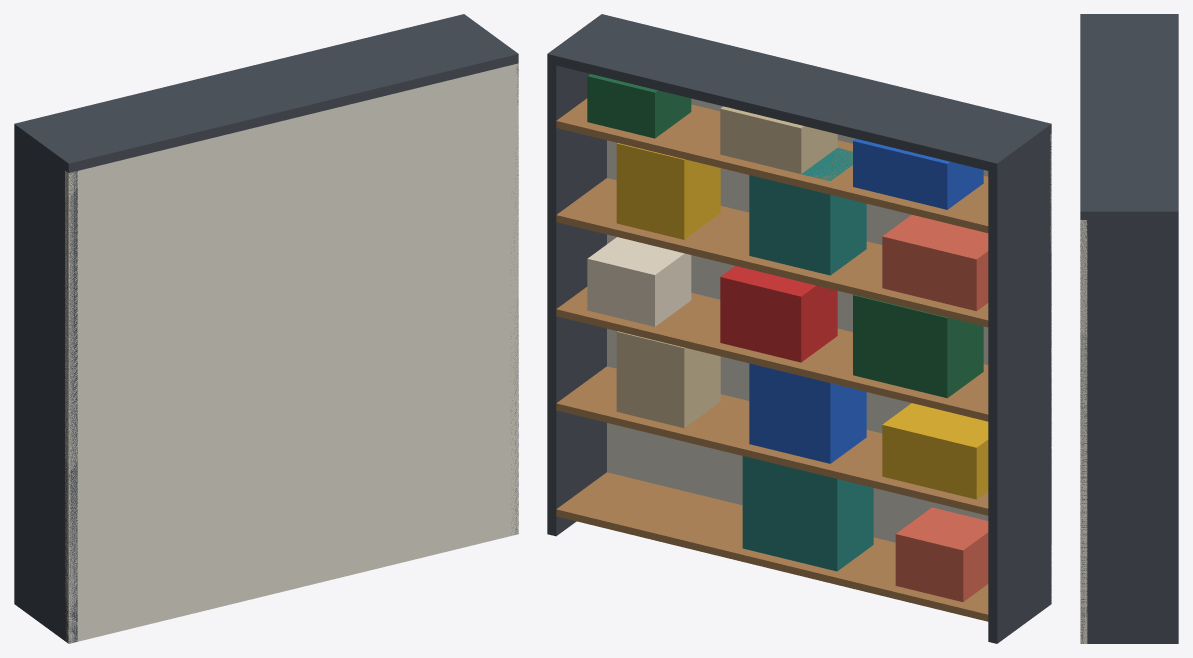
The model's file is shelf_wall.glb.
The picture shows the model from 3 angles, left to right: view 1: azimuth 30°, elevation 25°; view 2: azimuth 150°, elevation 25°; view 3: azimuth 270°, elevation 25°; orthographic projection. The views are drawn at different scales.
Visible parts, largest first — view 1: Body; view 2: Body; view 3: Body.
Boxes of the visible parts, box(x1,y1,x2,y2) form: Body: box(14, 14, 518, 643); Body: box(547, 14, 1051, 643); Body: box(1080, 14, 1178, 643).
Size of the model in its own units: 2 by 2.04 by 0.42.
